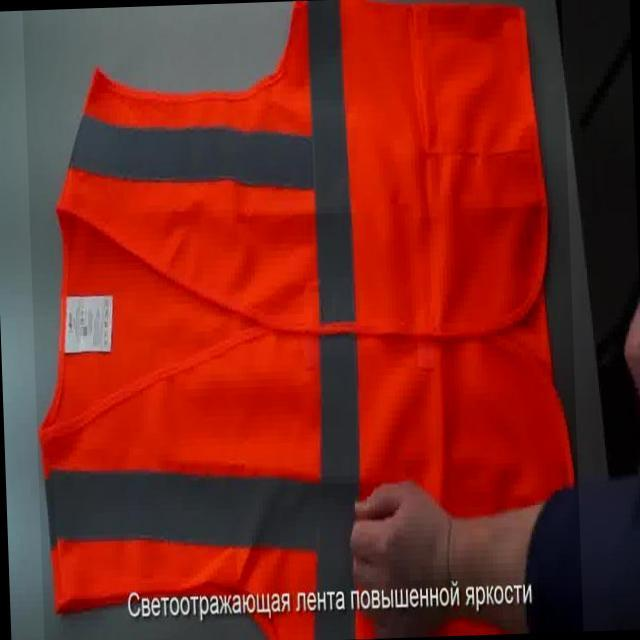Safety Vest: (22, 0, 583, 640)
bare-arms: (335, 477, 478, 621)
